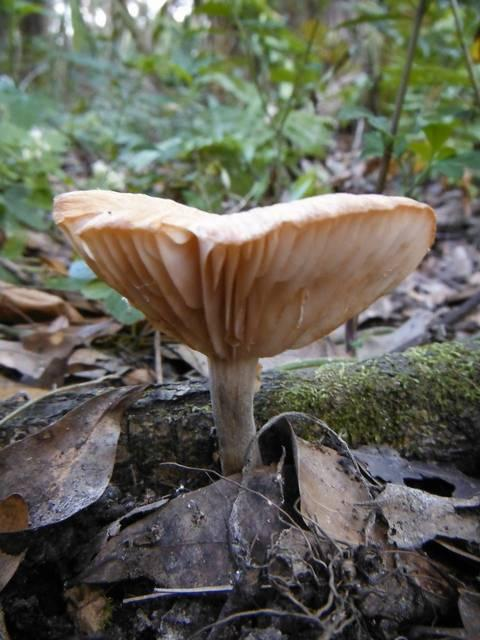Edible Mushroom: (50, 185, 437, 479)
